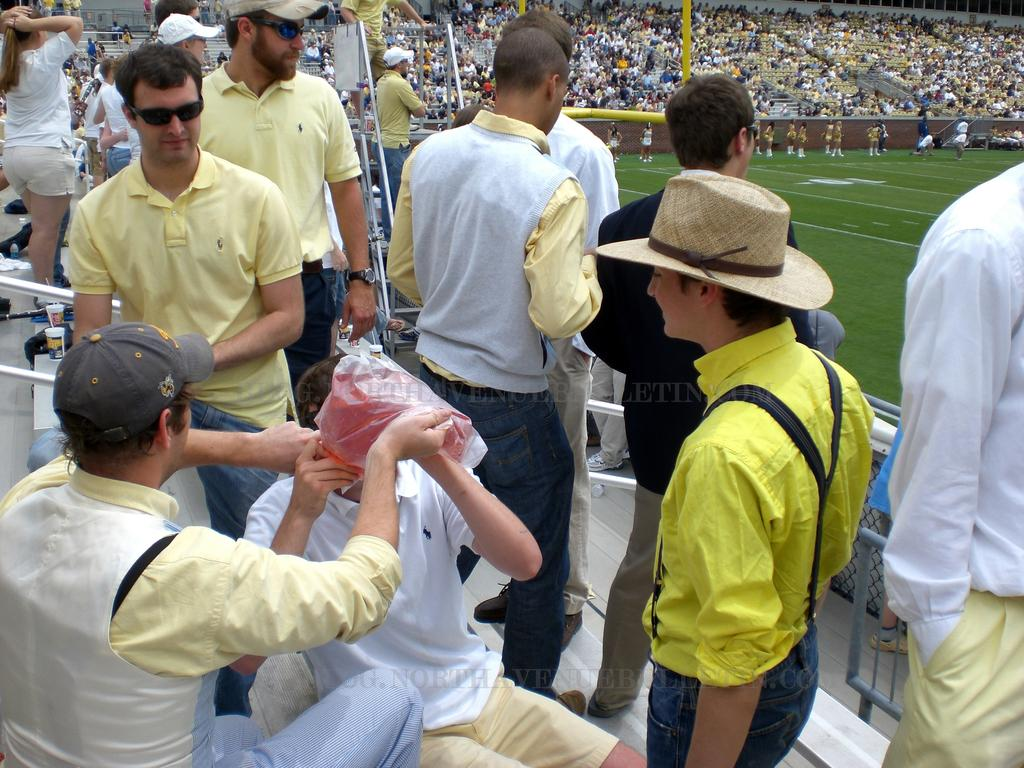Hat: (593, 168, 836, 312), (50, 320, 216, 444), (222, 0, 328, 23), (152, 13, 218, 44), (384, 44, 413, 66)
